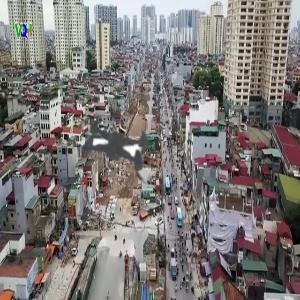drone: (32, 63, 196, 227)
